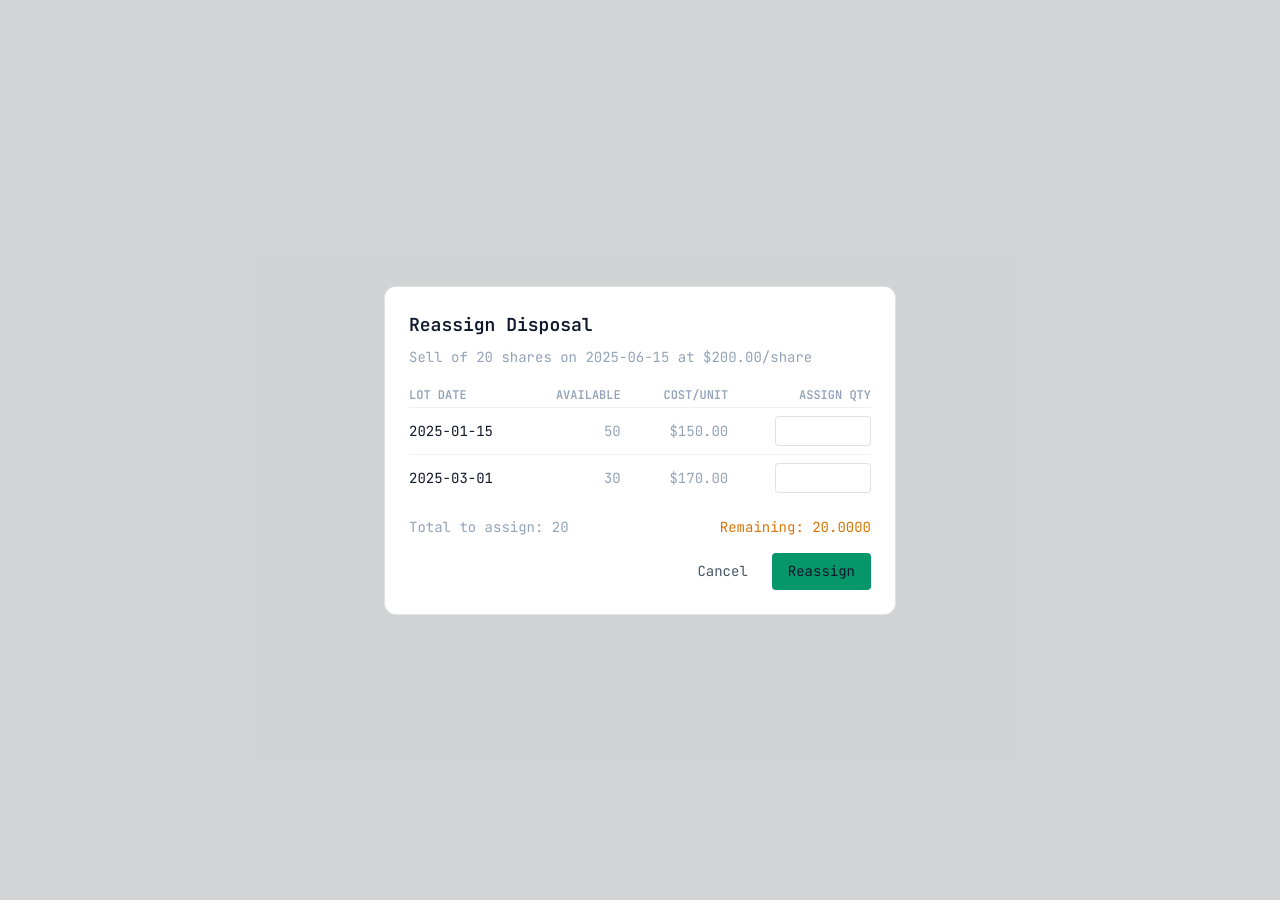
Test: DisposalReassignModal › shows error when total does not match
Expected: the table with test id "reassign-lots-table" is shown, [409,382,871,500]
// Assign only 10 (total needed is 20)
Step 1. Type "10" into the number field with test id "reassign-qty-lot-1" → point(823, 430), box [775,416,871,446]
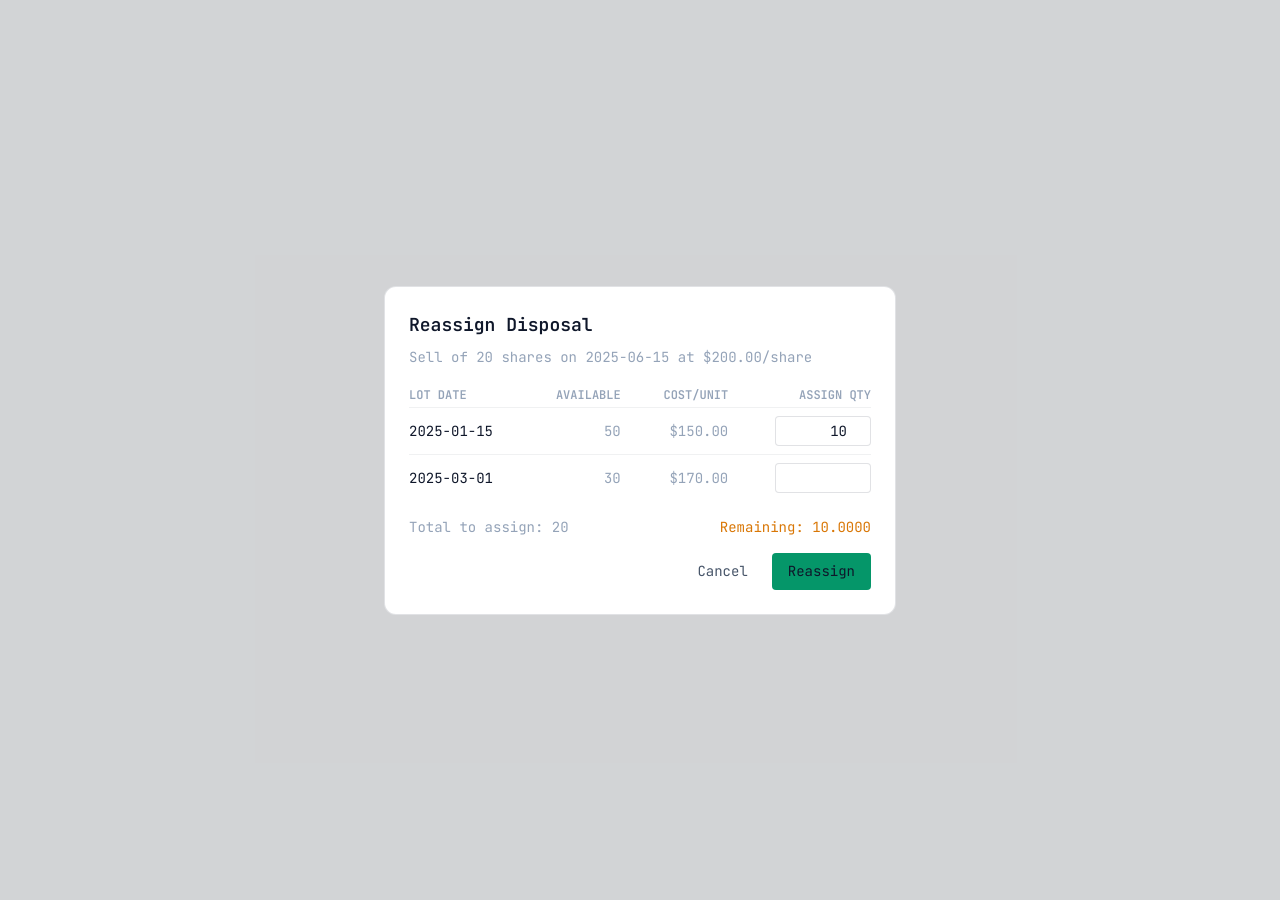
Step 2. Click the button "Reassign" → point(821, 571), box [772,552,871,590]
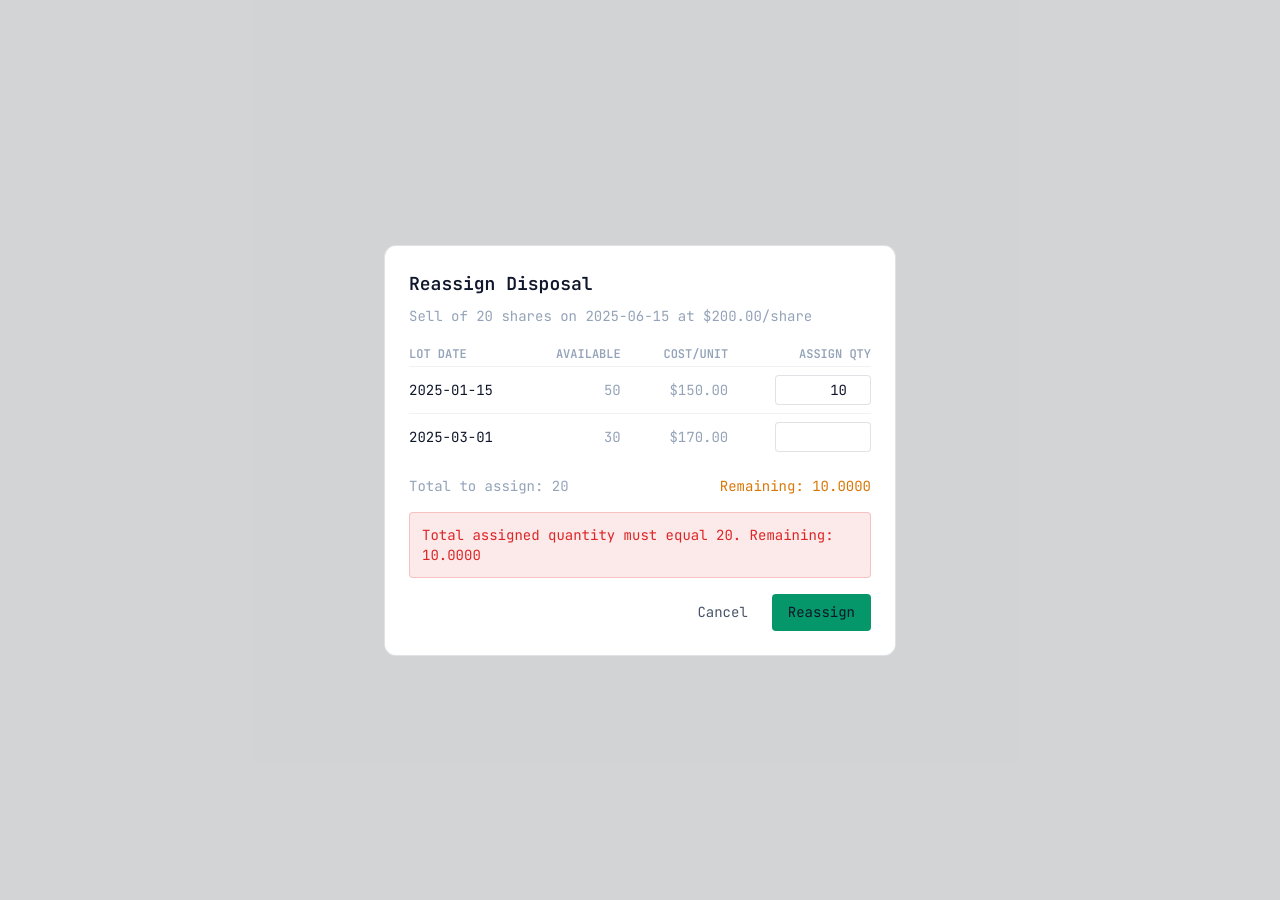
Expected: the text "Total assigned quantity must equal 20. Remaining: 10.0000" is shown, [409,512,871,578]
